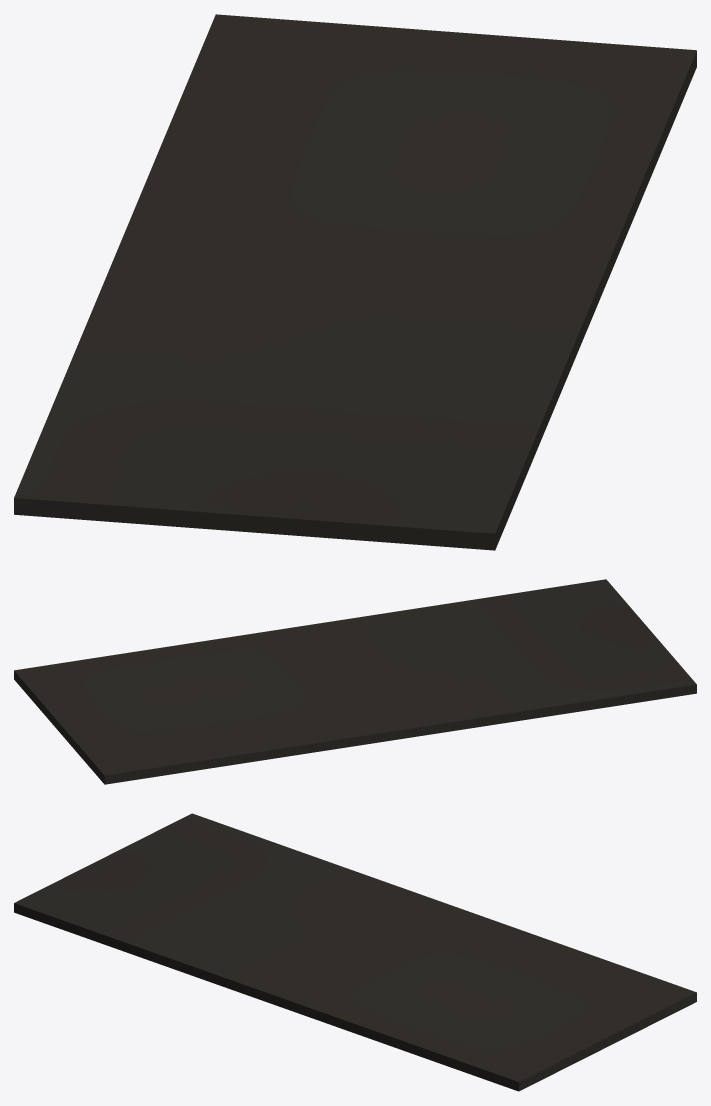
The picture shows the model from 3 angles, top to bottom: view 1: azimuth 30°, elevation 25°; view 2: azimuth 150°, elevation 25°; view 3: azimuth 270°, elevation 25°; orthographic projection. The views are drawn at different scales.
Visible parts, largest first — view 1: Plane029_closet_hc_0; view 2: Plane029_closet_hc_0; view 3: Plane029_closet_hc_0.
Boxes of the visible parts, <box> form: Plane029_closet_hc_0: <box>14,14,696,550</box>; Plane029_closet_hc_0: <box>14,579,696,784</box>; Plane029_closet_hc_0: <box>14,813,696,1091</box>.
Bounding box in the file's own units: 12.14 × 0.2 × 13.04.
Materials: 2 (2 with a texture image).
